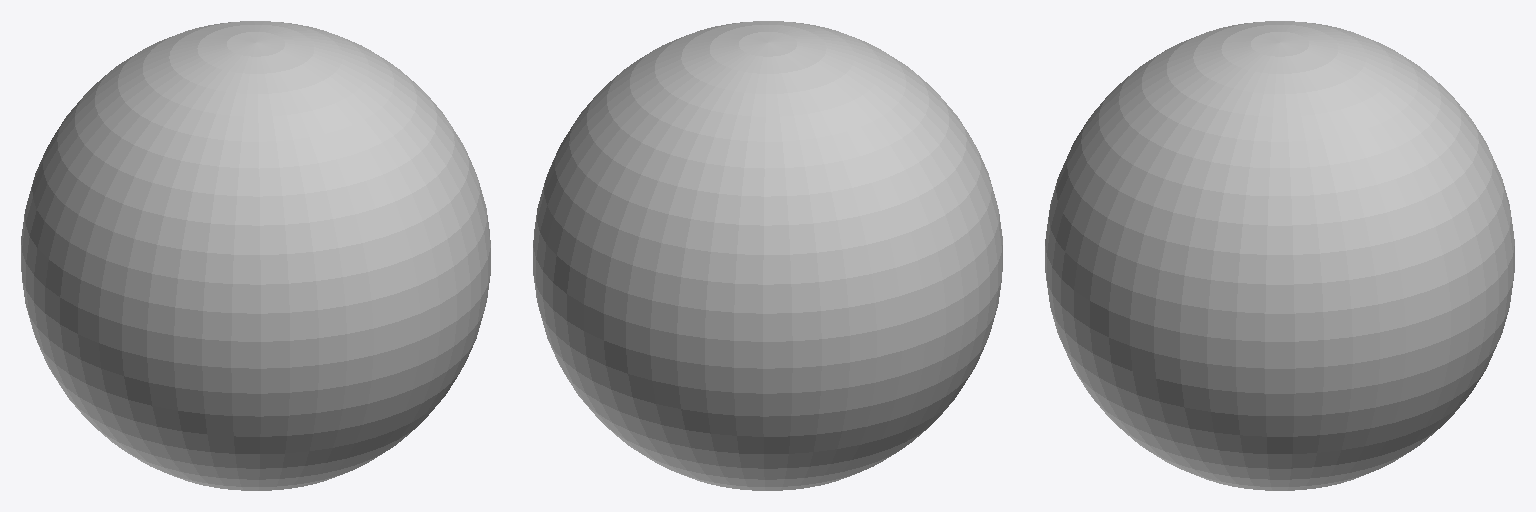
File: skybox.obj
3 views of the same model, side by side, from view 1: azimuth 30°, elevation 25°; view 2: azimuth 150°, elevation 25°; view 3: azimuth 270°, elevation 25° (orthographic).
Parts seen in each view (by area): view 1: Sphere001__0; view 2: Sphere001__0; view 3: Sphere001__0.
Part boxes in pixels (x1,y1,x2,y2): Sphere001__0: (21, 21, 490, 490); Sphere001__0: (533, 21, 1002, 490); Sphere001__0: (1045, 21, 1514, 490).
Size of the model in its own units: 9.71 by 9.75 by 9.73.